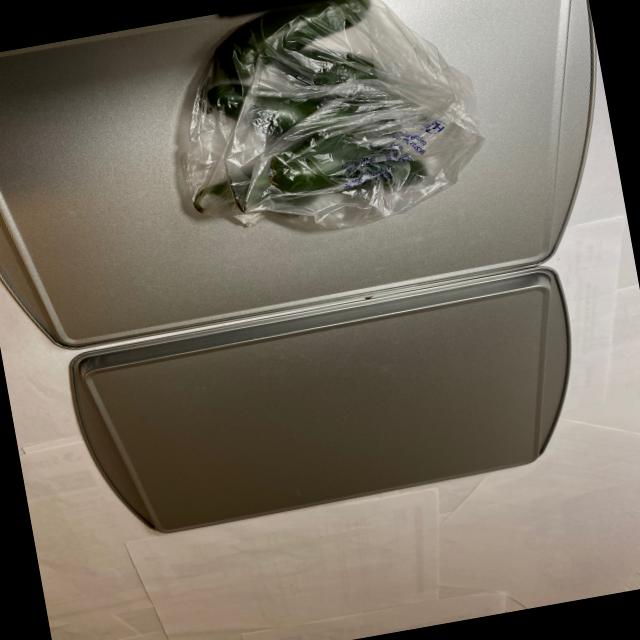chilli: (153, 0, 444, 231)
